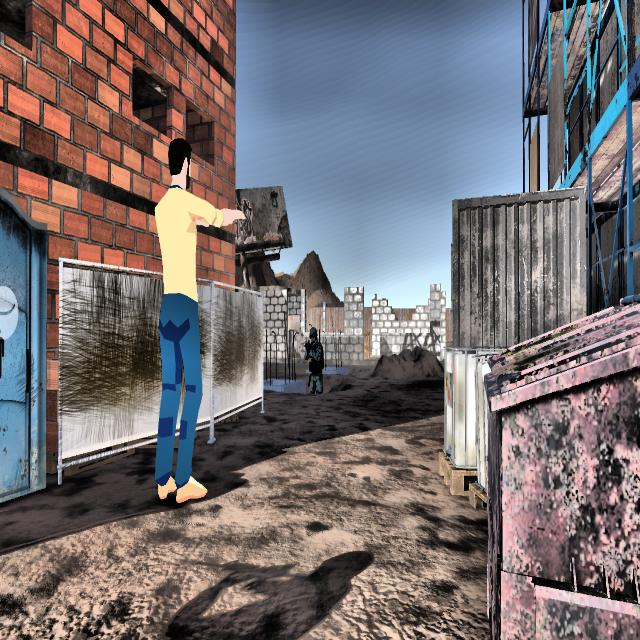bad: (303, 310, 325, 401)
good: (127, 115, 255, 522)
